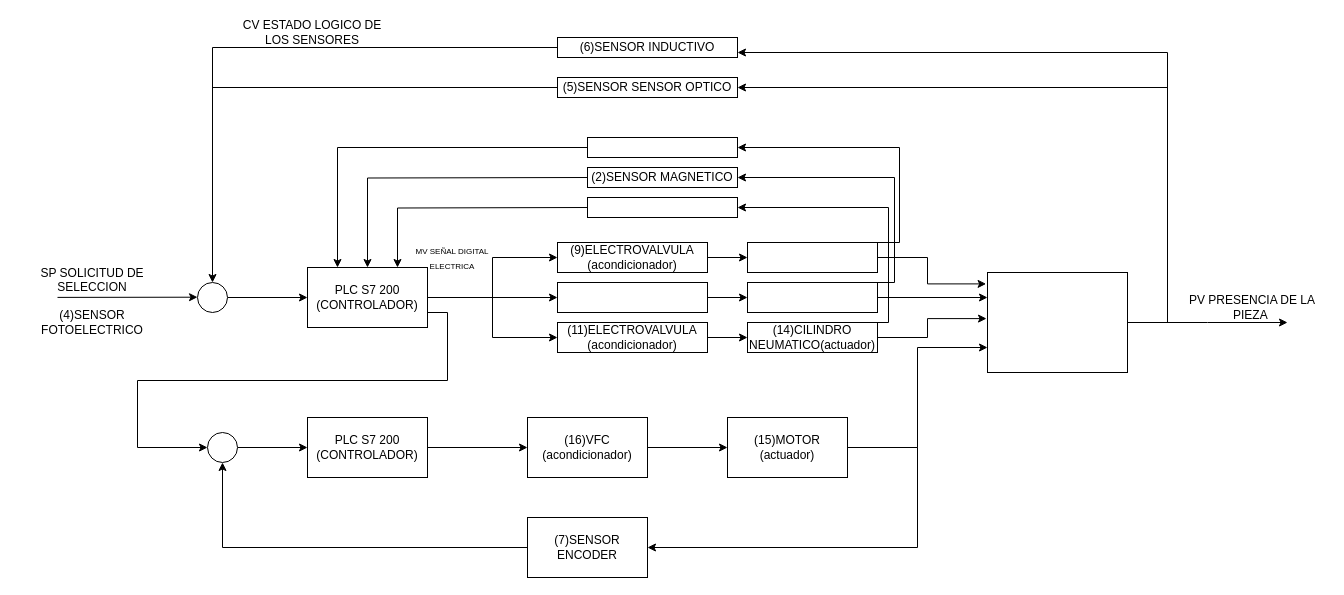
The diagram is 1344 pixels wide and 595 high, and some of its shapes have lost their labels. The centre of each missing label's shape, as x and y in pixels:
(1)SENSOR MAGNETICO: [662,147]
(10)ELECTROVALVULA (acondicionador): [632,297]
(12)CILINDRO NEUMATICO(actuador): [812,257]
(13)CILINDRO NEUMATICO(actuador): [812,297]
(3)SENSOR MAGNETICO: [662,207]
PLANTA CINTA-RAMPAS: [1057,322]
